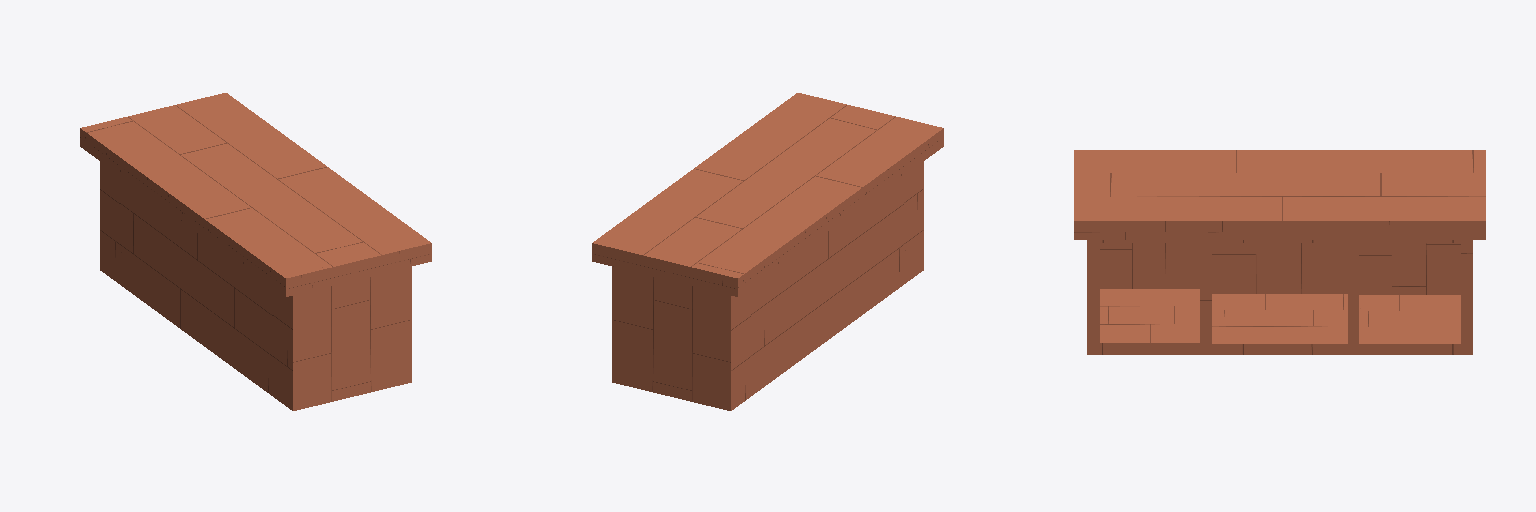
3 renders of one model, left to right at view 1: azimuth 30°, elevation 25°; view 2: azimuth 150°, elevation 25°; view 3: azimuth 270°, elevation 25°, orthographic.
Parts seen in each view (by area): view 1: barril:pCube2, barril:pCube1; view 2: barril:pCube2, barril:pCube1; view 3: barril:pCube1, barril:pCube2.
Part boxes in pixels (left/top/right/bottom): barril:pCube2: left=80, top=93, right=431, bottom=296; barril:pCube1: left=100, top=162, right=411, bottom=410; barril:pCube2: left=592, top=93, right=943, bottom=296; barril:pCube1: left=612, top=162, right=923, bottom=410; barril:pCube1: left=1087, top=240, right=1472, bottom=354; barril:pCube2: left=1074, top=150, right=1485, bottom=239.
Bounding box in the file's own units: 1.23 × 1.14 × 3.
Materials: 1 (1 with a texture image).